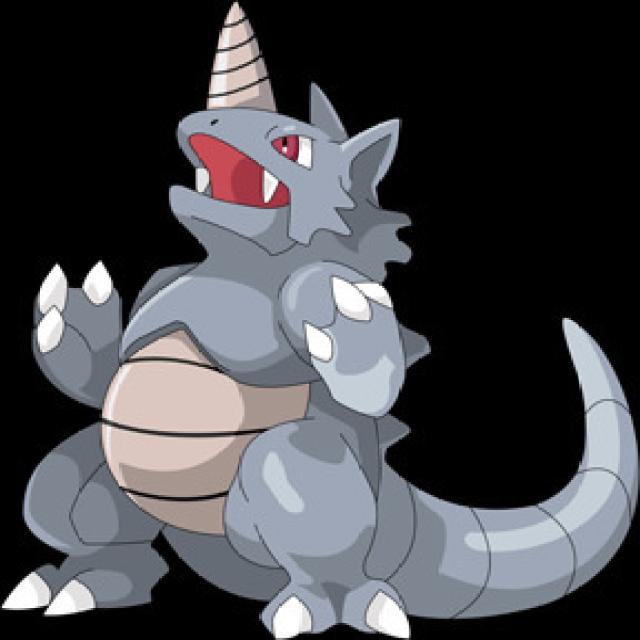Rhydon: (0, 0, 499, 640)
